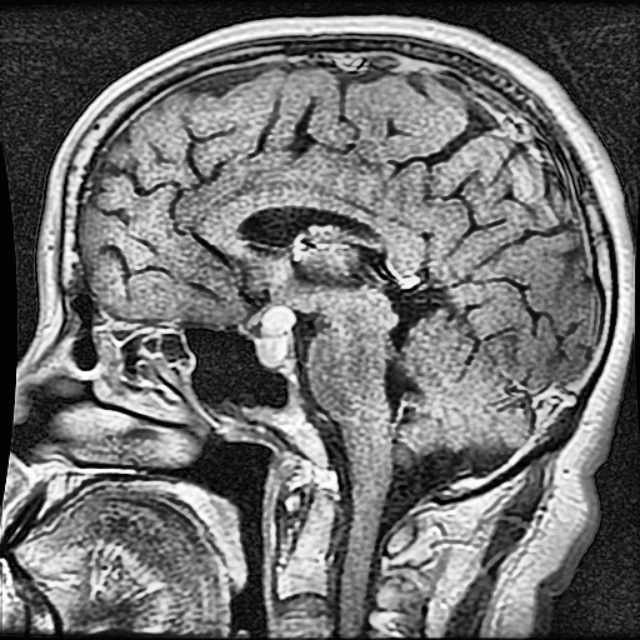Pituitary: (259, 308, 290, 367)
